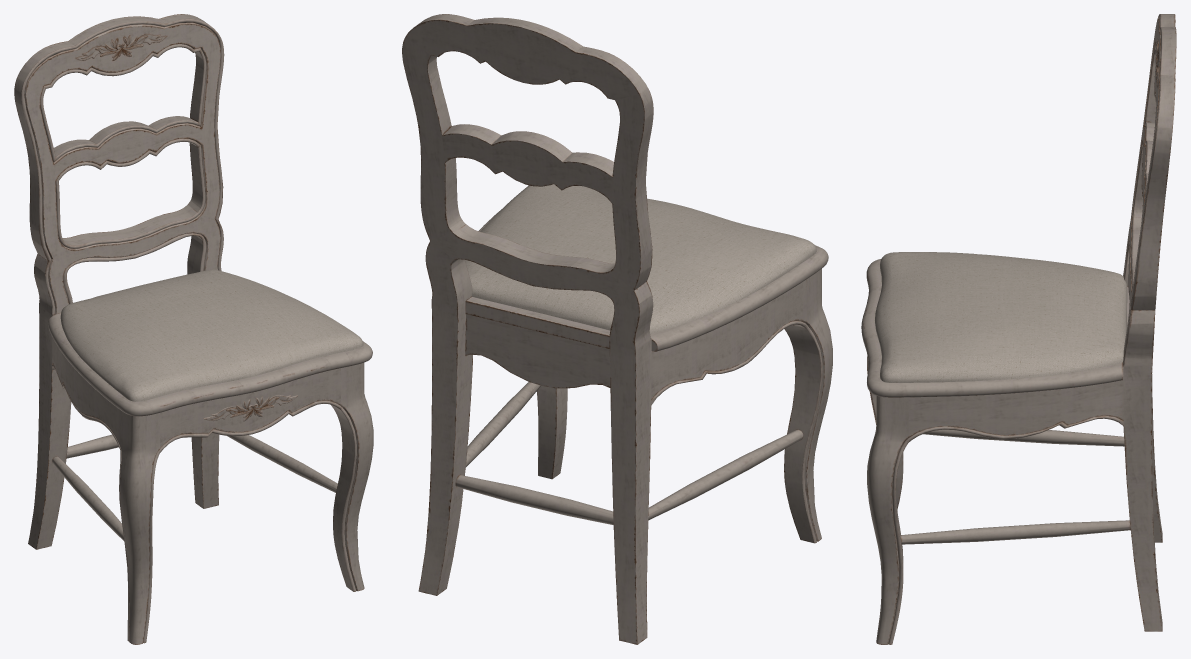
The model's file is example76.gltf.
The picture shows the model from 3 angles, left to right: view 1: azimuth 30°, elevation 25°; view 2: azimuth 150°, elevation 25°; view 3: azimuth 270°, elevation 25°; orthographic projection. The views are drawn at different scales.
Bounding box in the file's own units: 48.67 × 92.97 × 48.87.
2 materials, 2 textured.
